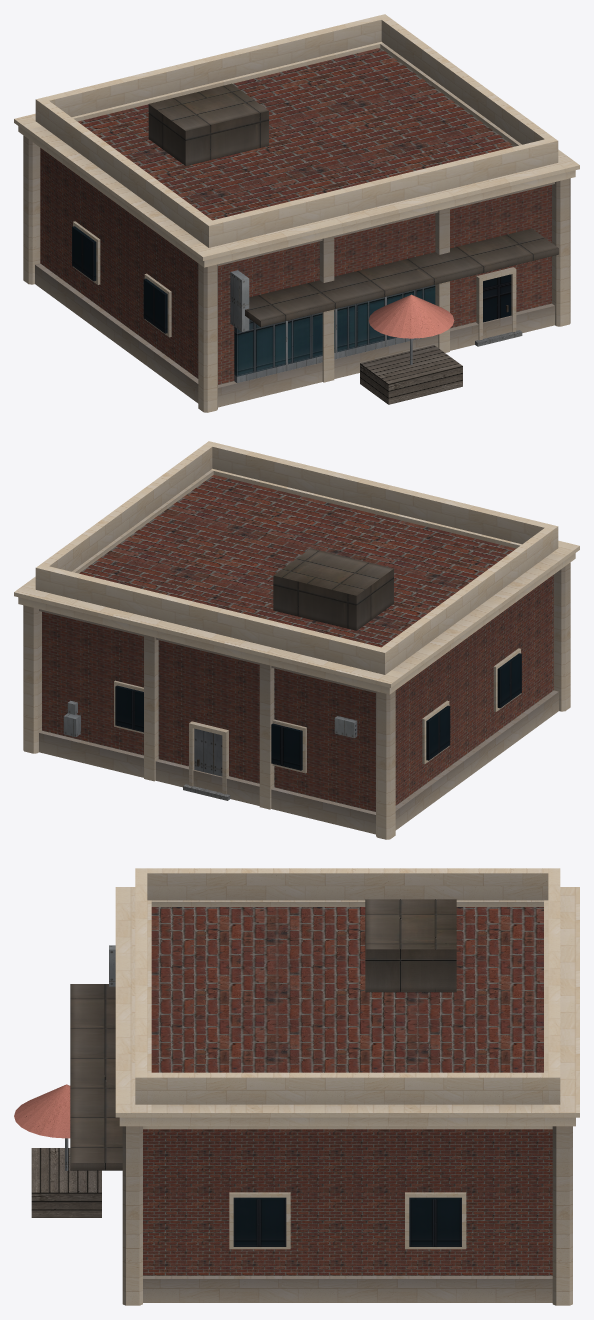
File: coffee-shop_lod0.gltf
3 views of the same model, one above another, from view 1: azimuth 30°, elevation 25°; view 2: azimuth 150°, elevation 25°; view 3: azimuth 270°, elevation 25° (orthographic). The views are drawn at different scales.
Visible parts, largest first — view 1: coffee-shop_main, coffee-shop__v4_stone_detail, coffee-shop__v4_metal_detail, coffee-shop_fen_07-glass-curtain-blue_1, coffee-shop__patio_tables, coffee-shop_fen_07-glass-curtain-blue_3_t, coffee-shop__umbrella, coffee-shop_fen_04-limestone_2, coffee-shop_fen_14-steel-panel_0, coffee-shop__blade_sign; view 2: coffee-shop_main, coffee-shop__v4_stone_detail, coffee-shop__v4_metal_detail, coffee-shop_fen_07-glass-curtain-blue_3_t, coffee-shop_fen_04-limestone_2, coffee-shop_fen_14-steel-panel_0; view 3: coffee-shop_main, coffee-shop__v4_stone_detail, coffee-shop__v4_metal_detail, coffee-shop_fen_07-glass-curtain-blue_3_t, coffee-shop__patio_tables, coffee-shop__umbrella, coffee-shop_fen_04-limestone_2.
Part boxes in pixels (left/top/right/bottom): coffee-shop_main: left=40, top=48, right=551, bottom=384; coffee-shop__v4_stone_detail: left=14, top=14, right=579, bottom=412; coffee-shop__v4_metal_detail: left=148, top=83, right=558, bottom=327; coffee-shop_fen_07-glass-curtain-blue_1: left=234, top=285, right=435, bottom=376; coffee-shop__patio_tables: left=360, top=345, right=462, bottom=404; coffee-shop_fen_07-glass-curtain-blue_3_t: left=72, top=226, right=511, bottom=333; coffee-shop__umbrella: left=368, top=294, right=454, bottom=338; coffee-shop_fen_04-limestone_2: left=73, top=221, right=516, bottom=340; coffee-shop_fen_14-steel-panel_0: left=234, top=296, right=421, bottom=383; coffee-shop__blade_sign: left=230, top=270, right=249, bottom=331; coffee-shop_main: left=42, top=475, right=553, bottom=811; coffee-shop__v4_stone_detail: left=14, top=441, right=579, bottom=839; coffee-shop__v4_metal_detail: left=273, top=548, right=393, bottom=630; coffee-shop_fen_07-glass-curtain-blue_3_t: left=115, top=653, right=521, bottom=770; coffee-shop_fen_04-limestone_2: left=114, top=648, right=520, bottom=794; coffee-shop_fen_14-steel-panel_0: left=63, top=700, right=357, bottom=776; coffee-shop_main: left=143, top=907, right=552, bottom=1275; coffee-shop__v4_stone_detail: left=115, top=868, right=579, bottom=1305; coffee-shop__v4_metal_detail: left=70, top=899, right=456, bottom=1170; coffee-shop_fen_07-glass-curtain-blue_3_t: left=233, top=1197, right=461, bottom=1246; coffee-shop__patio_tables: left=31, top=1148, right=101, bottom=1217; coffee-shop__umbrella: left=14, top=1084, right=70, bottom=1138; coffee-shop_fen_04-limestone_2: left=229, top=1192, right=466, bottom=1249.
Size of the model in its own units: 15.22 by 7.35 by 16.11.
